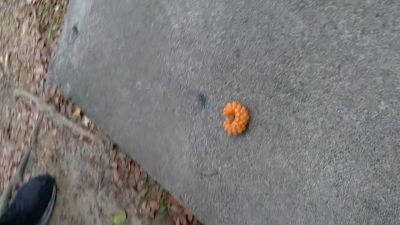eggs: (221, 100, 251, 136)
